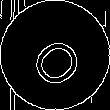O_NE: (22, 22, 88, 88)
